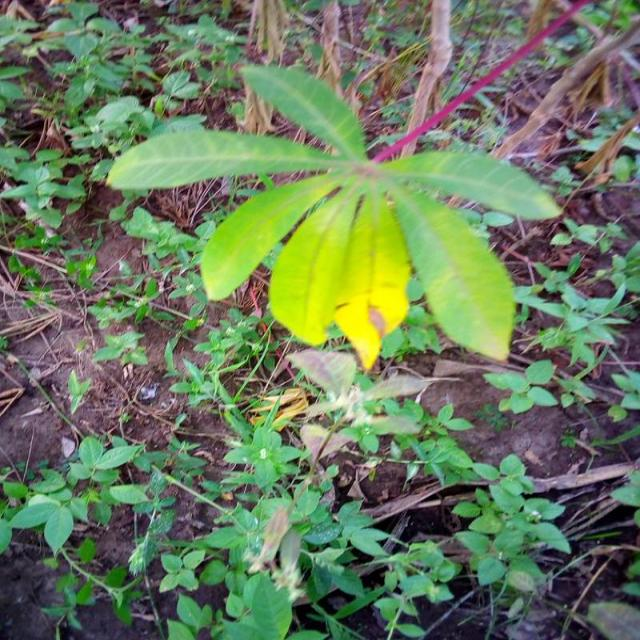cassava leaf: (104, 60, 562, 370)
